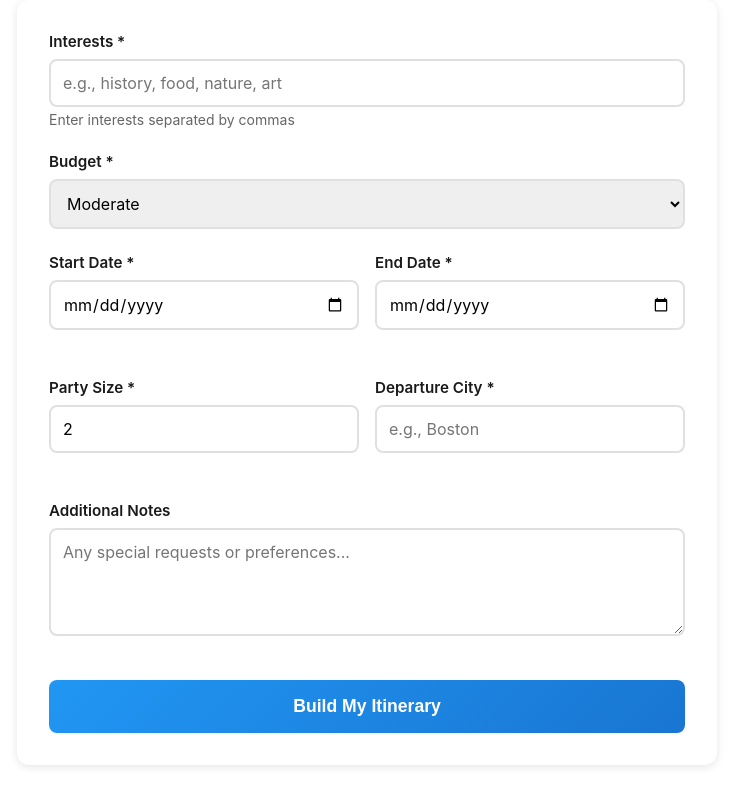
Test: CustomerForm › should show validation error when dates are invalid
Type "history" into the field labelled "Interests *" at (367, 83), box 49,59 -> 685,107
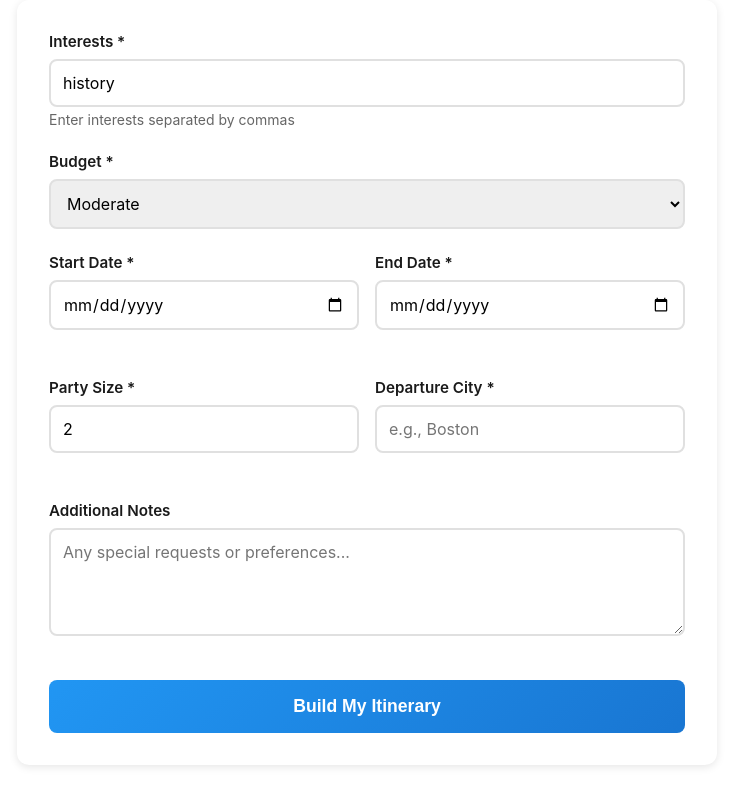
Type "2026-07-15" into the date field labelled "Start Date *" at (204, 305), box 49,280 -> 359,330
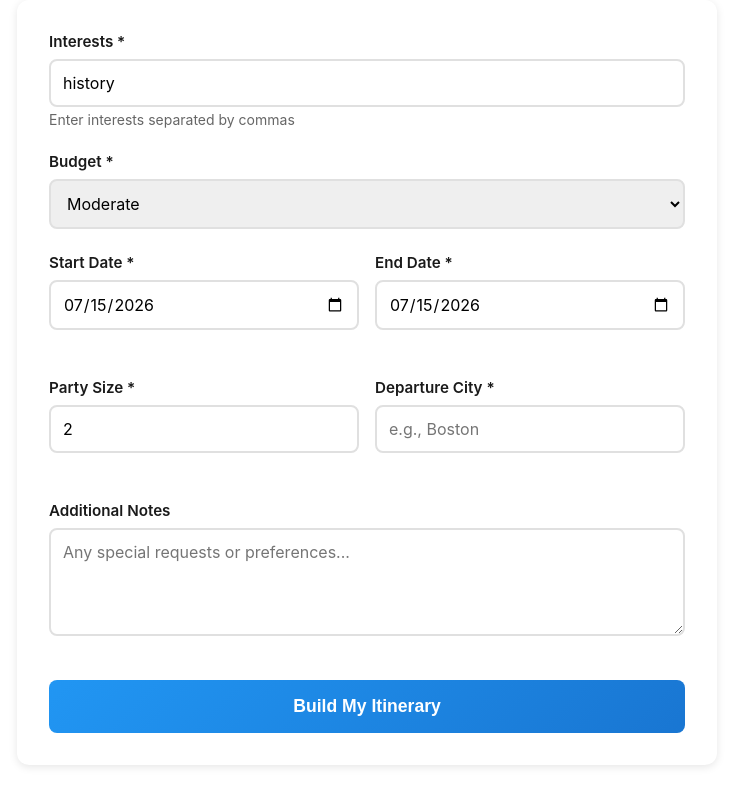
Type "2026-07-01" into the date field labelled "End Date *" at (530, 305), box 375,280 -> 685,330
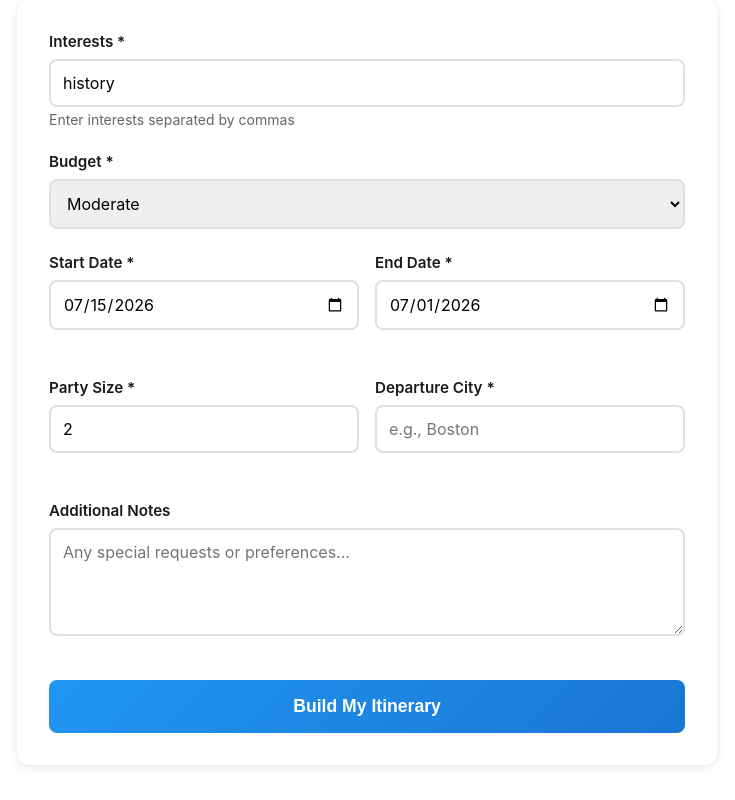
Type "Boston" into the field labelled "Departure City *" at (530, 429), box 375,405 -> 685,453
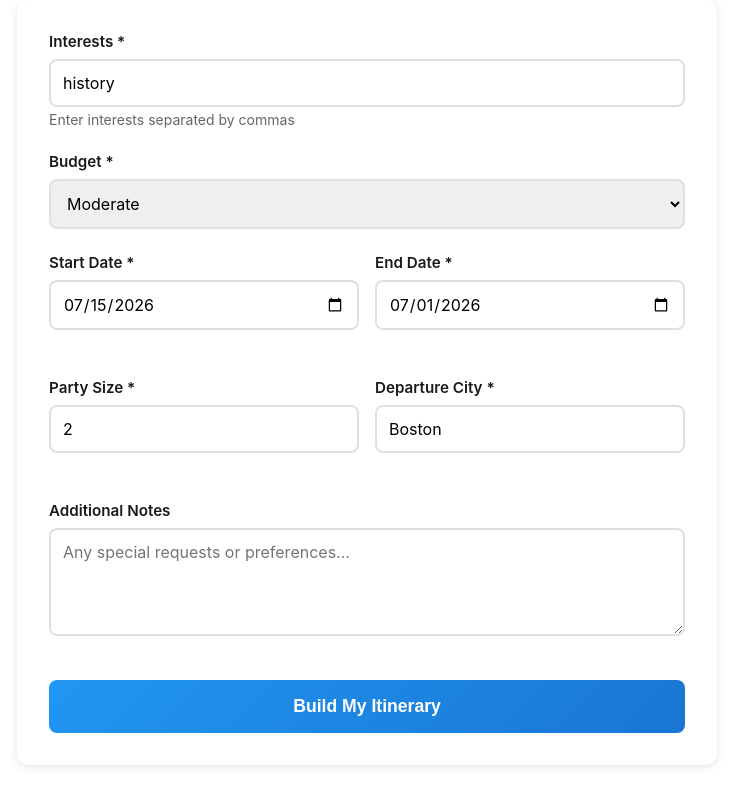
Submit the form named "build my itinerary"
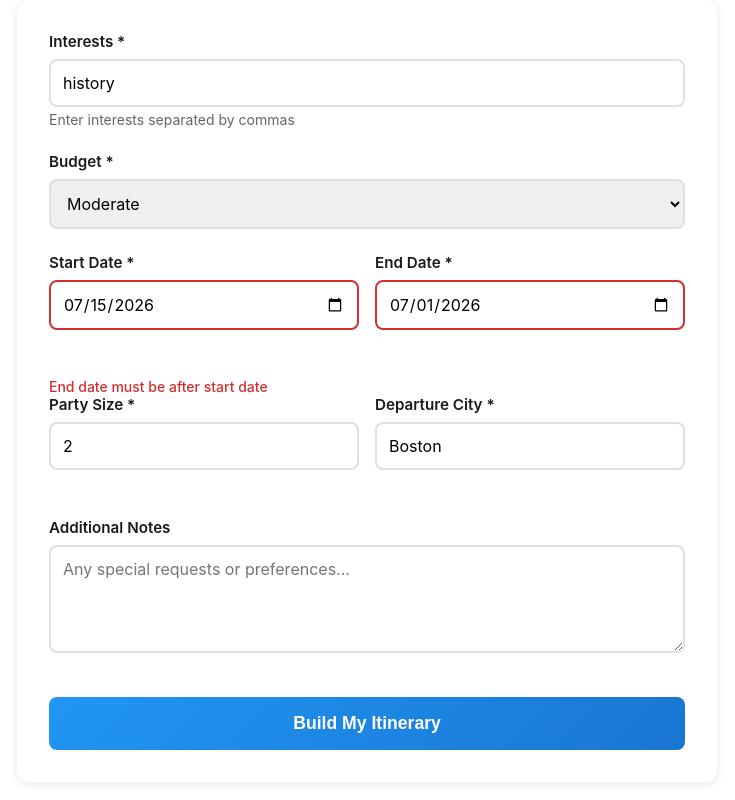
Now the text "End date must be after start date" is shown, box 49,378 -> 268,395
